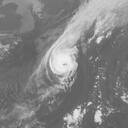cyclone: (48, 41, 78, 79)
